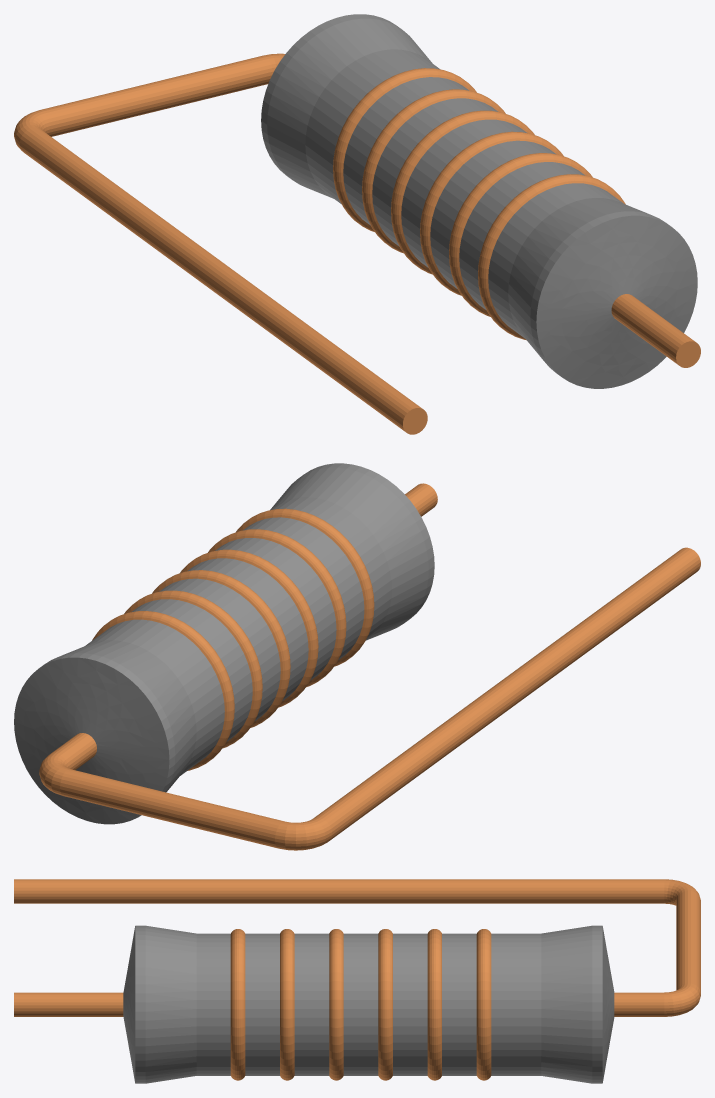
File: L_Axial_L14.0mm_D4.5mm_P7.62mm_Vertical_Fastron_LACC.glb
3 views of the same model, one above another, from view 1: azimuth 30°, elevation 25°; view 2: azimuth 150°, elevation 25°; view 3: azimuth 270°, elevation 25° (orthographic). The views are drawn at different scales.
Visible parts, largest first — view 1: Shape_IndexedFaceSet.002, Shape_IndexedFaceSet.025, Shape_IndexedFaceSet.018, Shape_IndexedFaceSet.023, Shape_IndexedFaceSet.017, Shape_IndexedFaceSet.004, Shape_IndexedFaceSet.005, Shape_IndexedFaceSet.007, Shape_IndexedFaceSet.009, Shape_IndexedFaceSet.015, Shape_IndexedFaceSet.011, Shape_IndexedFaceSet.013 (+10 smaller); view 2: Shape_IndexedFaceSet.020, Shape_IndexedFaceSet.025, Shape_IndexedFaceSet.004, Shape_IndexedFaceSet.023, Shape_IndexedFaceSet.017, Shape_IndexedFaceSet.018, Shape_IndexedFaceSet.013, Shape_IndexedFaceSet.011, Shape_IndexedFaceSet.007, Shape_IndexedFaceSet.015, Shape_IndexedFaceSet.009, Shape_IndexedFaceSet.005 (+12 smaller); view 3: Shape_IndexedFaceSet.025, Shape_IndexedFaceSet.018, Shape_IndexedFaceSet.004, Shape_IndexedFaceSet.017, Shape_IndexedFaceSet.009, Shape_IndexedFaceSet.011, Shape_IndexedFaceSet.007, Shape_IndexedFaceSet.013, Shape_IndexedFaceSet.015, Shape_IndexedFaceSet.005, Shape_IndexedFaceSet.001, Shape_IndexedFaceSet.006 (+13 smaller).
Boxes of the visible parts, x1,y1,x2,y2 form: Shape_IndexedFaceSet.002: (536, 215, 697, 388); Shape_IndexedFaceSet.025: (19, 127, 423, 431); Shape_IndexedFaceSet.018: (267, 18, 431, 198); Shape_IndexedFaceSet.023: (41, 55, 272, 136); Shape_IndexedFaceSet.017: (305, 49, 440, 204); Shape_IndexedFaceSet.004: (508, 198, 649, 359); Shape_IndexedFaceSet.005: (488, 183, 623, 338); Shape_IndexedFaceSet.007: (459, 162, 585, 310); Shape_IndexedFaceSet.009: (430, 140, 555, 288); Shape_IndexedFaceSet.015: (343, 77, 468, 225); Shape_IndexedFaceSet.011: (401, 119, 526, 267); Shape_IndexedFaceSet.013: (372, 98, 498, 246); Shape_IndexedFaceSet.020: (14, 657, 169, 824); Shape_IndexedFaceSet.025: (313, 547, 700, 840); Shape_IndexedFaceSet.004: (270, 467, 428, 640); Shape_IndexedFaceSet.023: (60, 769, 283, 848); Shape_IndexedFaceSet.017: (85, 619, 224, 775); Shape_IndexedFaceSet.018: (60, 640, 196, 792); Shape_IndexedFaceSet.013: (159, 578, 280, 721); Shape_IndexedFaceSet.011: (187, 558, 308, 700); Shape_IndexedFaceSet.007: (243, 517, 364, 660); Shape_IndexedFaceSet.015: (131, 599, 252, 741); Shape_IndexedFaceSet.009: (215, 538, 336, 680); Shape_IndexedFaceSet.005: (271, 497, 391, 639); Shape_IndexedFaceSet.025: (14, 879, 664, 903); Shape_IndexedFaceSet.018: (541, 925, 592, 1083); Shape_IndexedFaceSet.004: (145, 925, 196, 1083); Shape_IndexedFaceSet.017: (491, 933, 541, 1075); Shape_IndexedFaceSet.009: (294, 933, 329, 1075); Shape_IndexedFaceSet.011: (343, 933, 378, 1075); Shape_IndexedFaceSet.007: (245, 933, 279, 1075); Shape_IndexedFaceSet.013: (393, 933, 427, 1075); Shape_IndexedFaceSet.015: (442, 933, 476, 1075); Shape_IndexedFaceSet.005: (196, 933, 230, 1075); Shape_IndexedFaceSet.001: (14, 992, 123, 1016); Shape_IndexedFaceSet.006: (230, 929, 245, 1080).
Size of the model in its own units: 4.02 by 1.77 by 7.7.
